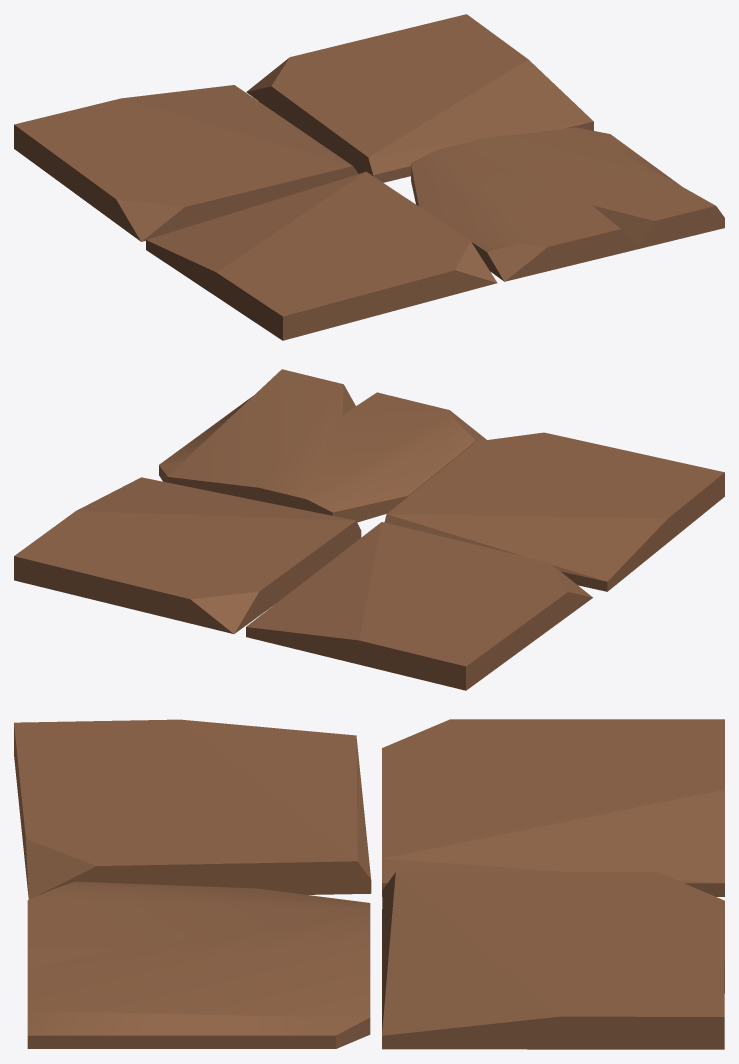
The model's file is Stonewalk_001.FBX.
The picture shows the model from 3 angles, top to bottom: view 1: azimuth 30°, elevation 25°; view 2: azimuth 150°, elevation 25°; view 3: azimuth 270°, elevation 25°; orthographic projection. The views are drawn at different scales.
Parts seen in each view (by area): view 1: Stonewalk_001; view 2: Stonewalk_001; view 3: Stonewalk_001.
Part boxes in pixels (left/top/right/bottom): Stonewalk_001: left=14, top=14, right=724, bottom=340; Stonewalk_001: left=14, top=369, right=724, bottom=690; Stonewalk_001: left=14, top=719, right=724, bottom=1049.
Bounding box in the file's own units: 77.57 × 3.94 × 77.57.
